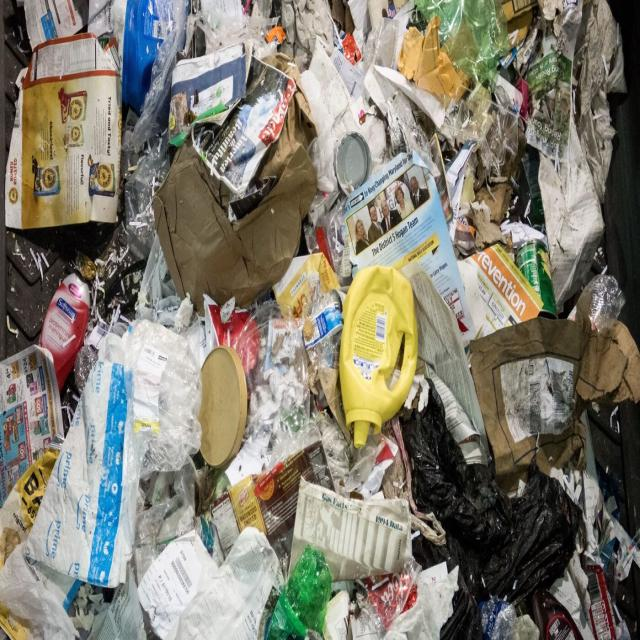cardboard: (487, 348, 564, 454)
paper: (14, 41, 132, 245), (200, 76, 272, 188)
plastic: (81, 352, 212, 465), (348, 263, 399, 422)
